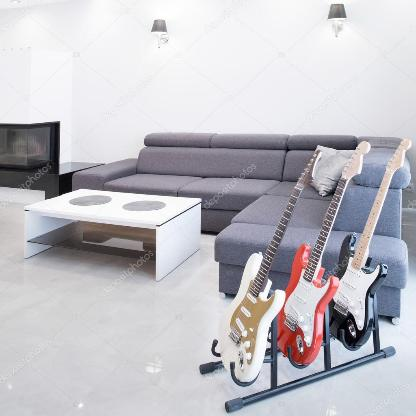guitar: (218, 149, 324, 382), (274, 143, 372, 366), (326, 139, 414, 347)
